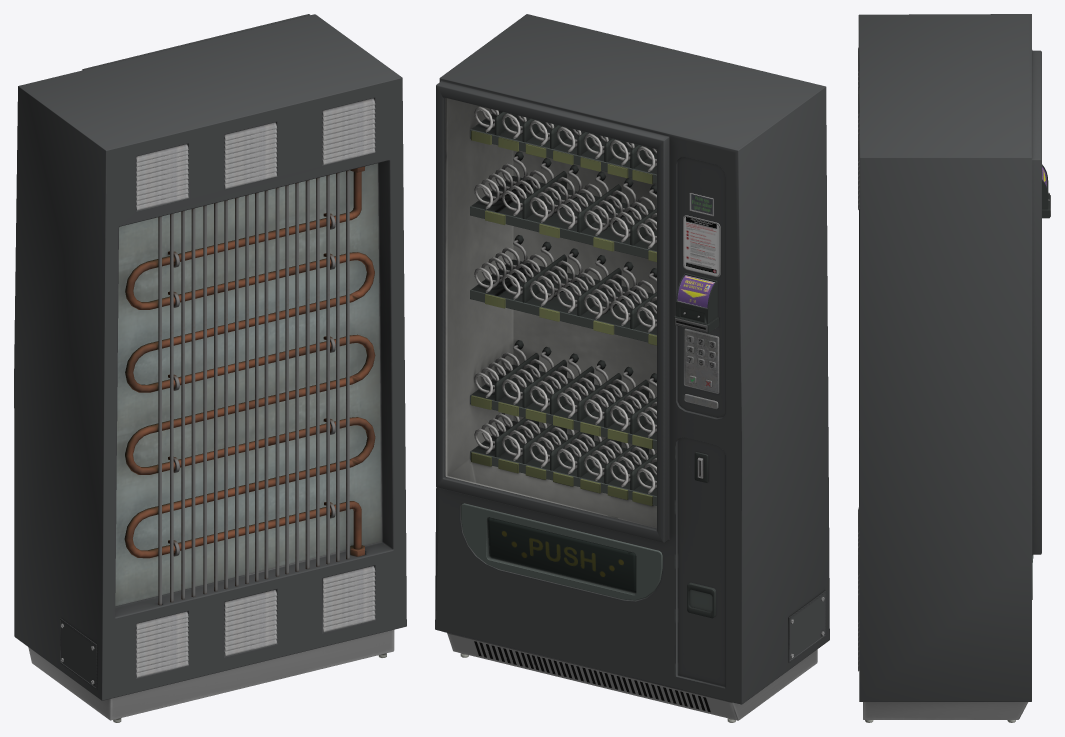
The picture shows the model from 3 angles, left to right: view 1: azimuth 30°, elevation 25°; view 2: azimuth 150°, elevation 25°; view 3: azimuth 270°, elevation 25°; orthographic projection.
Visible parts, largest first — view 1: polySurface322, polySurface313, polySurface314, polySurface311, polySurface315, polySurface310, polySurface312, polySurface282, polySurface278, polySurface271, polySurface279, polySurface286 (+14 smaller); view 2: polySurface322, polySurface262, nk1:pCube429, polySurface265, polySurface266, polySurface256, polySurface263, polySurface264, polySurface362; view 3: polySurface322, nk1:pCube429.
Part boxes in pixels (x1,y1,x2,y2): polySurface322: [14, 14, 406, 720]; polySurface313: [322, 98, 375, 164]; polySurface314: [224, 122, 277, 188]; polySurface311: [224, 590, 277, 655]; polySurface315: [136, 144, 188, 210]; polySurface310: [136, 611, 188, 677]; polySurface312: [323, 566, 375, 631]; polySurface282: [305, 180, 309, 569]; polySurface278: [264, 190, 268, 579]; polySurface271: [191, 208, 195, 597]; polySurface279: [275, 187, 279, 576]; polySurface286: [346, 170, 349, 559]; polySurface322: [435, 14, 829, 720]; polySurface262: [445, 98, 656, 528]; nk1:pCube429: [461, 193, 720, 618]; polySurface265: [470, 151, 656, 258]; polySurface266: [470, 235, 656, 342]; polySurface256: [470, 340, 656, 449]; polySurface263: [470, 413, 656, 505]; polySurface264: [470, 106, 656, 183]; polySurface362: [474, 641, 710, 712]; polySurface322: [858, 14, 1041, 719]; nk1:pCube429: [1032, 164, 1050, 599].
Bounding box in the file's own units: 5.94 × 10.71 × 3.27.
Materials: 7 (6 with a texture image).
